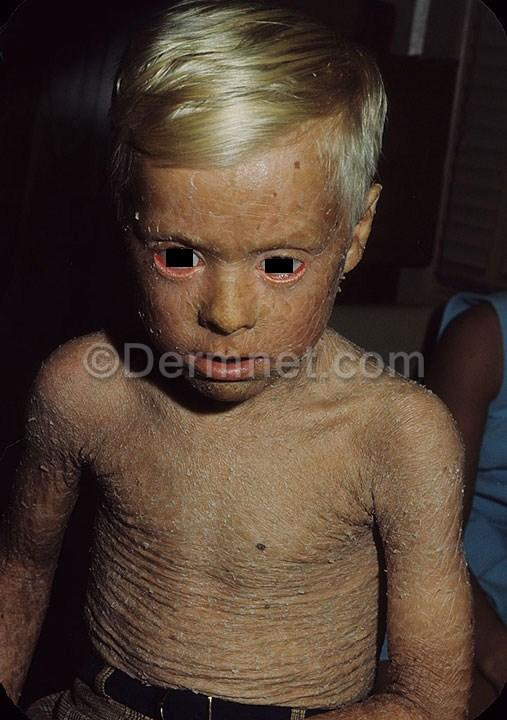xerosis 3: (0, 158, 475, 719)
